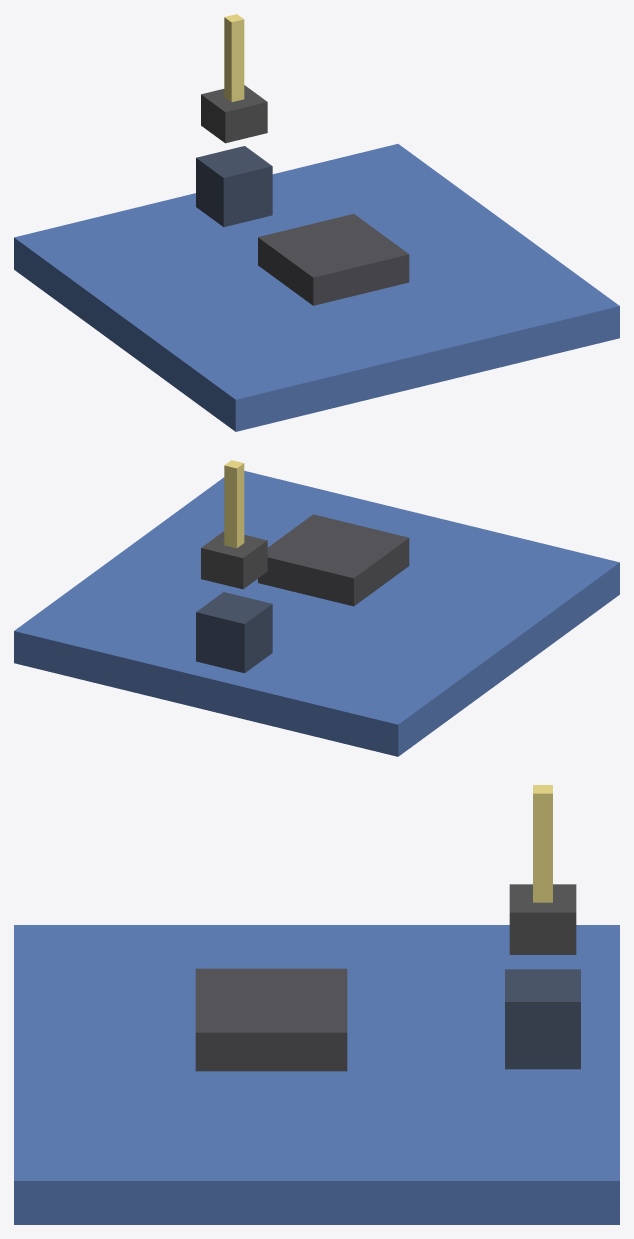
File: raspberry-pi-camera-module.glb
The picture shows the model from 3 angles, top to bottom: view 1: azimuth 30°, elevation 25°; view 2: azimuth 150°, elevation 25°; view 3: azimuth 270°, elevation 25°; orthographic projection. The views are drawn at different scales.
Visible parts, largest first — view 1: raspberry-pi-camera-module_mesh; view 2: raspberry-pi-camera-module_mesh; view 3: raspberry-pi-camera-module_mesh.
Boxes of the visible parts, left/top/right/bottom form: raspberry-pi-camera-module_mesh: left=14, top=14, right=619, bottom=431; raspberry-pi-camera-module_mesh: left=14, top=460, right=619, bottom=756; raspberry-pi-camera-module_mesh: left=14, top=785, right=619, bottom=1224.
Size of the model in its own units: 20 by 11.2 by 20.
